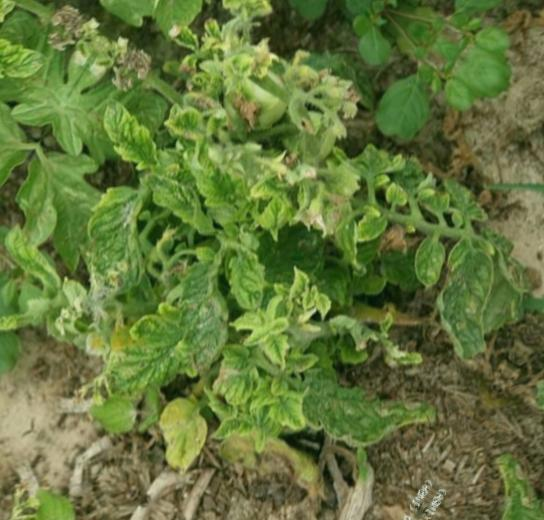Tomato leaf yellow virus: (91, 285, 223, 433), (67, 174, 189, 300), (314, 369, 432, 479), (178, 145, 270, 233), (92, 100, 179, 175), (210, 238, 287, 318), (398, 224, 471, 302), (258, 375, 328, 443), (259, 185, 312, 246), (349, 201, 398, 256), (377, 171, 418, 212), (257, 329, 299, 369)
